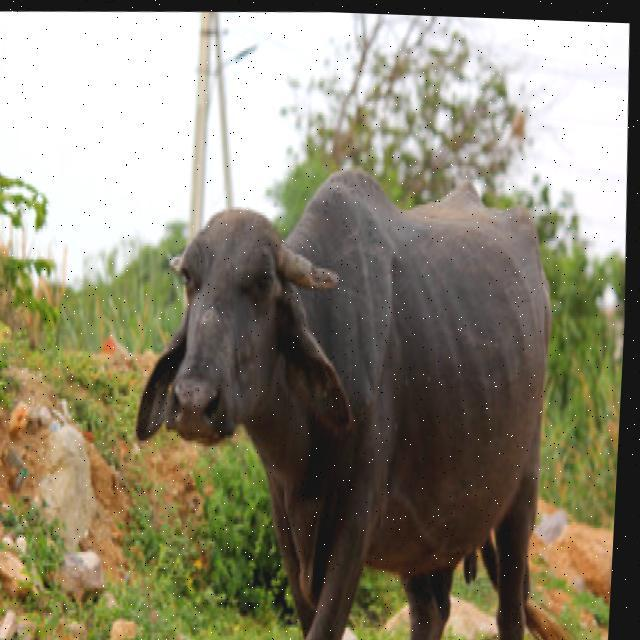Buffalo: (111, 145, 606, 640)
